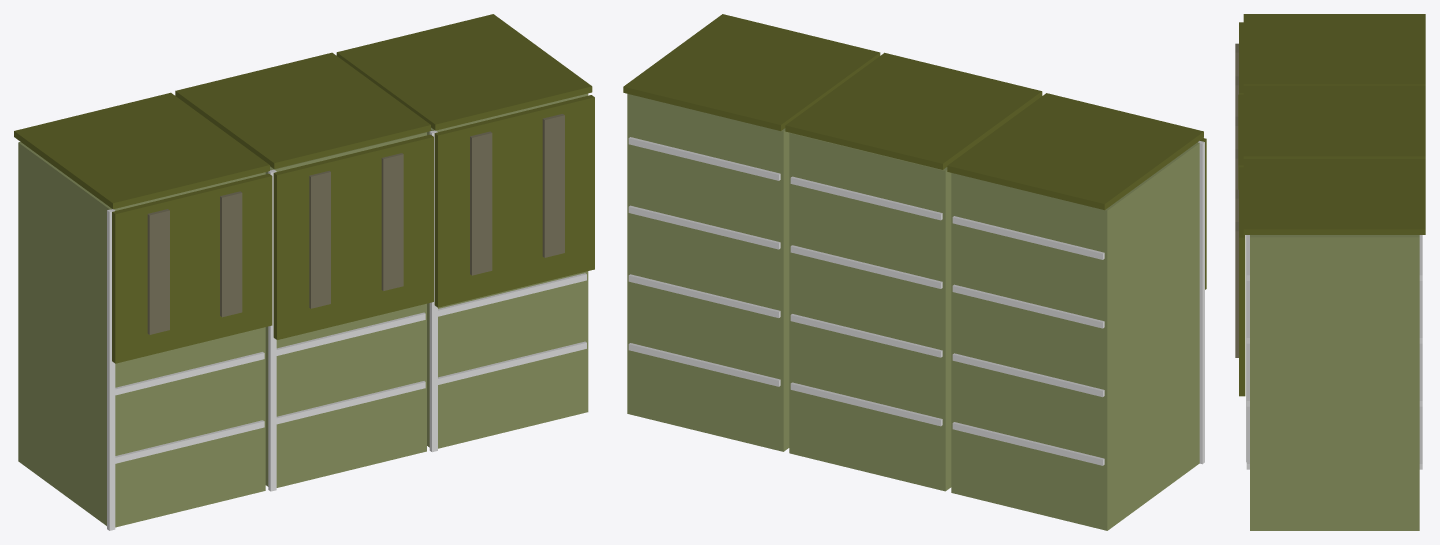
The model's file is SM_HescoCorto3_v4_Red_e0_Sano_LOD0.fbx.
3 views of the same model, side by side, from view 1: azimuth 30°, elevation 25°; view 2: azimuth 150°, elevation 25°; view 3: azimuth 270°, elevation 25° (orthographic). The views are drawn at different scales.
Visible parts, largest first — view 1: SM_hesco_piezas_v96_LOD0; view 2: SM_hesco_piezas_v96_LOD0; view 3: SM_hesco_piezas_v96_LOD0.
Boxes of the visible parts, x1=… form: SM_hesco_piezas_v96_LOD0: x1=14, y1=14, x2=594, y2=530; SM_hesco_piezas_v96_LOD0: x1=623, y1=14, x2=1206, y2=530; SM_hesco_piezas_v96_LOD0: x1=1235, y1=14, x2=1425, y2=530.
Size of the model in its own units: 3.32 by 2.16 by 1.23.
